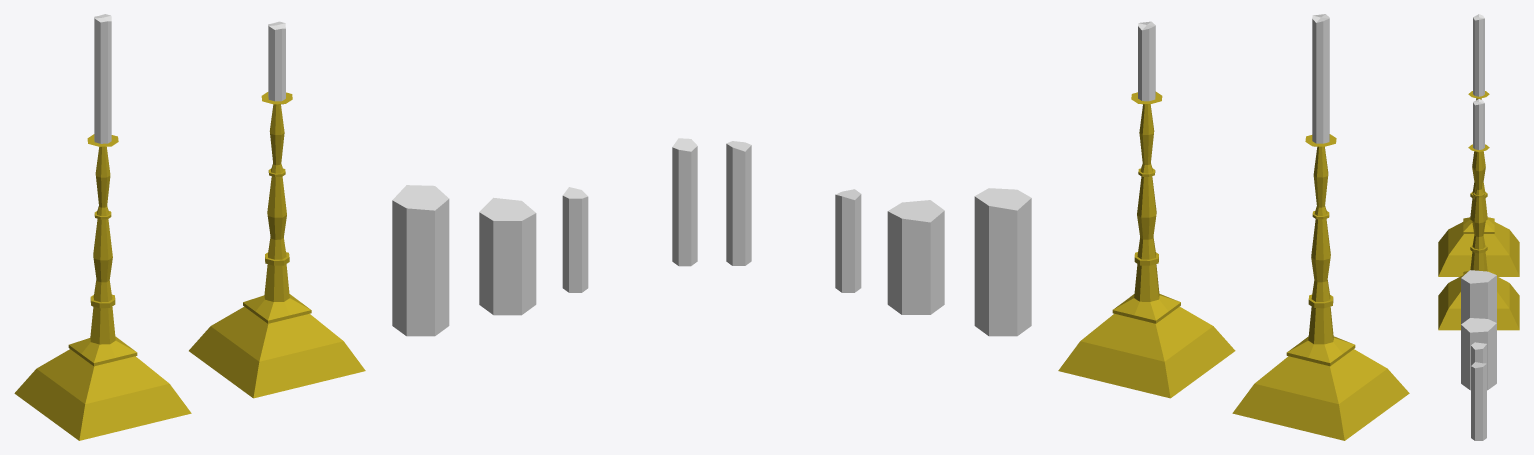
The model's file is Candles.fbx.
The picture shows the model from 3 angles, left to right: view 1: azimuth 30°, elevation 25°; view 2: azimuth 150°, elevation 25°; view 3: azimuth 270°, elevation 25°; orthographic projection. The views are drawn at different scales.
Parts seen in each view (by area): view 1: Candle 1, Candle 2, Candle 3, Candle 4, Candle 6, Candle 5; view 2: Candle 1, Candle 2, Candle 3, Candle 4, Candle 6, Candle 5; view 3: Candle 1, Candle 2, Candle 4, Candle 3, Candle 6, Candle 5.
Part boxes in pixels (x1=…): Candle 1: x1=14, y1=14, x2=191, y2=440; Candle 2: x1=189, y1=21, x2=365, y2=398; Candle 3: x1=392, y1=185, x2=449, y2=336; Candle 4: x1=479, y1=197, x2=536, y2=315; Candle 6: x1=672, y1=138, x2=697, y2=266; Candle 5: x1=562, y1=187, x2=588, y2=292; Candle 1: x1=1232, y1=14, x2=1409, y2=440; Candle 2: x1=1058, y1=21, x2=1235, y2=398; Candle 3: x1=974, y1=188, x2=1031, y2=336; Candle 4: x1=887, y1=200, x2=944, y2=314; Candle 6: x1=726, y1=141, x2=751, y2=265; Candle 5: x1=835, y1=189, x2=861, y2=292; Candle 1: x1=1438, y1=14, x2=1519, y2=276; Candle 2: x1=1438, y1=99, x2=1519, y2=330; Candle 4: x1=1461, y1=318, x2=1496, y2=390; Candle 3: x1=1461, y1=270, x2=1496, y2=324; Candle 6: x1=1471, y1=362, x2=1486, y2=440; Candle 5: x1=1471, y1=342, x2=1486, y2=365.
Bounding box in the file's own units: 48.08 × 27.44 × 8.35.
